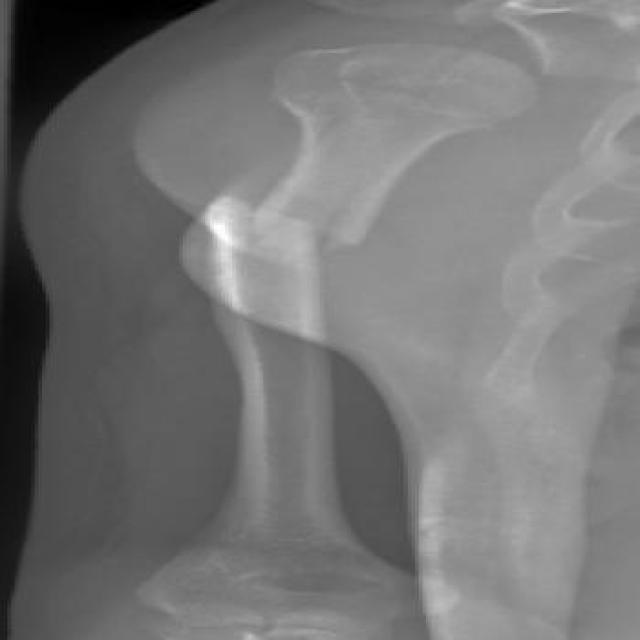Fracture: (204, 188, 401, 256)
